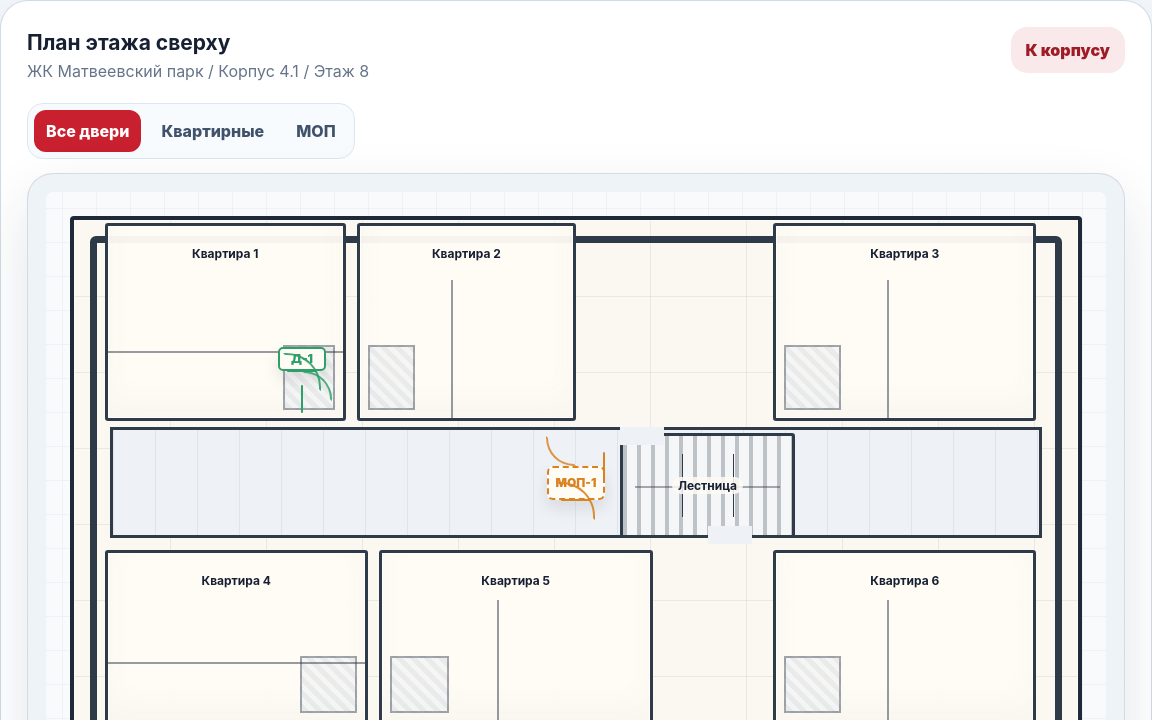
Test case: FloorPlan › filters apartment and common-area doors without changing floor data
Expected: the button "Д-1" is shown, [278,347,326,371]
Expected: the button "МОП-1" is shown, [547,466,605,500]
Click the button "Квартирные" at (213, 130), box [149,110,276,152]
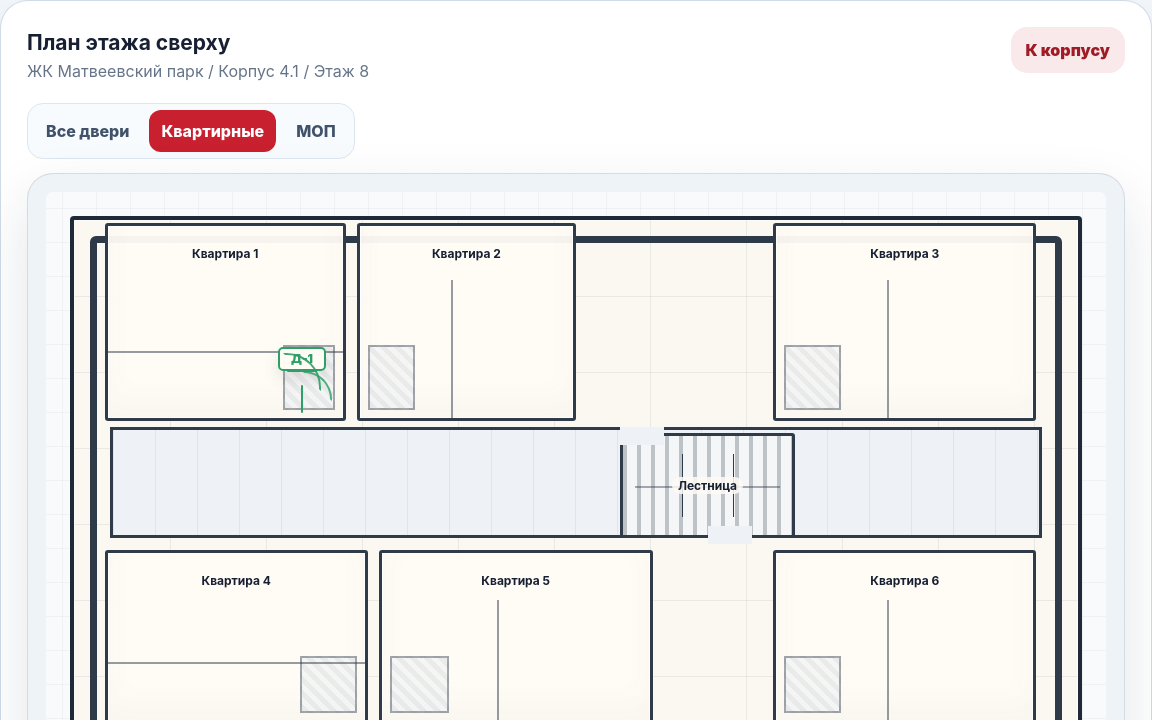
Expected: the button "Д-1" is shown, [278,347,326,371]
Result: the button "МОП-1" is gone
Click the button "МОП" at (316, 130), box [284,110,348,152]
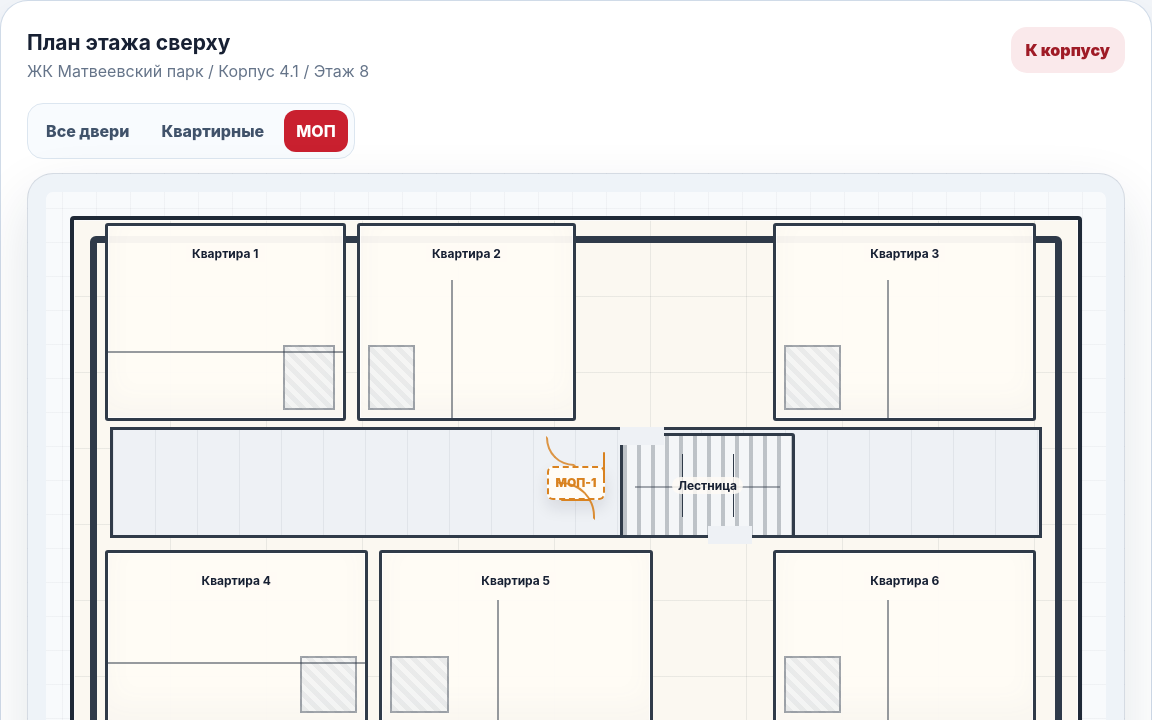
Result: the button "Д-1" is gone
Result: the button "МОП-1" is shown at [547,466,605,500]
